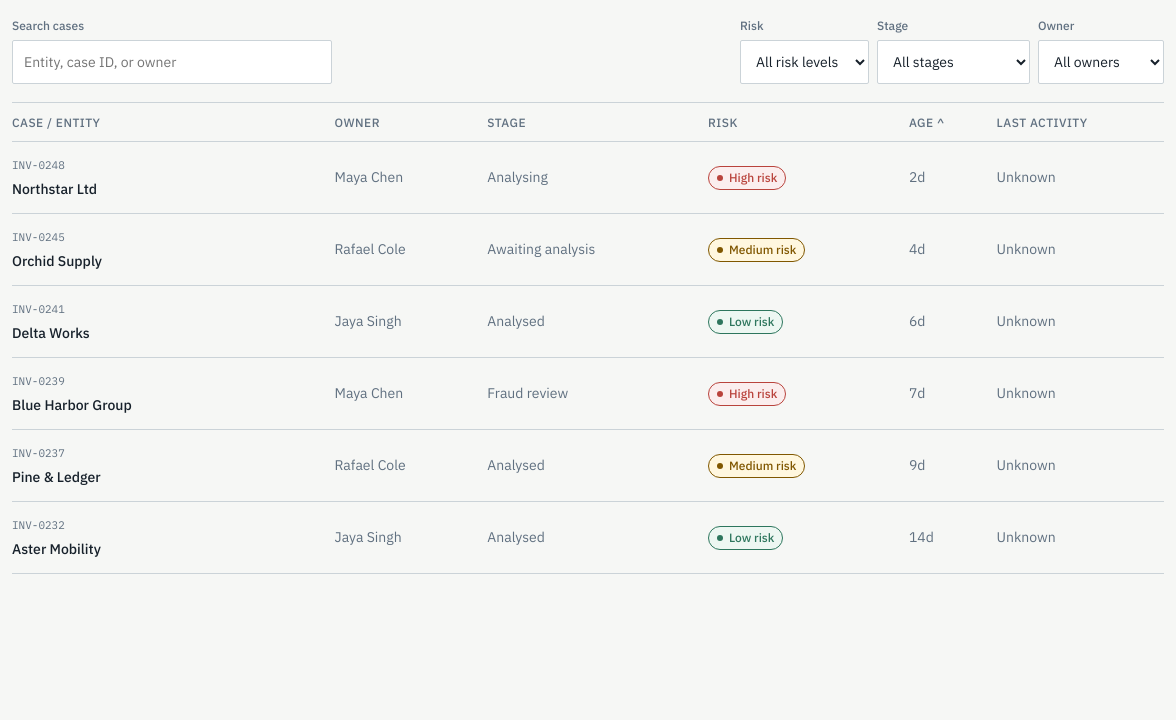
Test: CaseQueue › filters cases by risk
Select "High risk" in the dropdown labelled "Risk": {"x": 804, "y": 62} [740, 40, 869, 84]
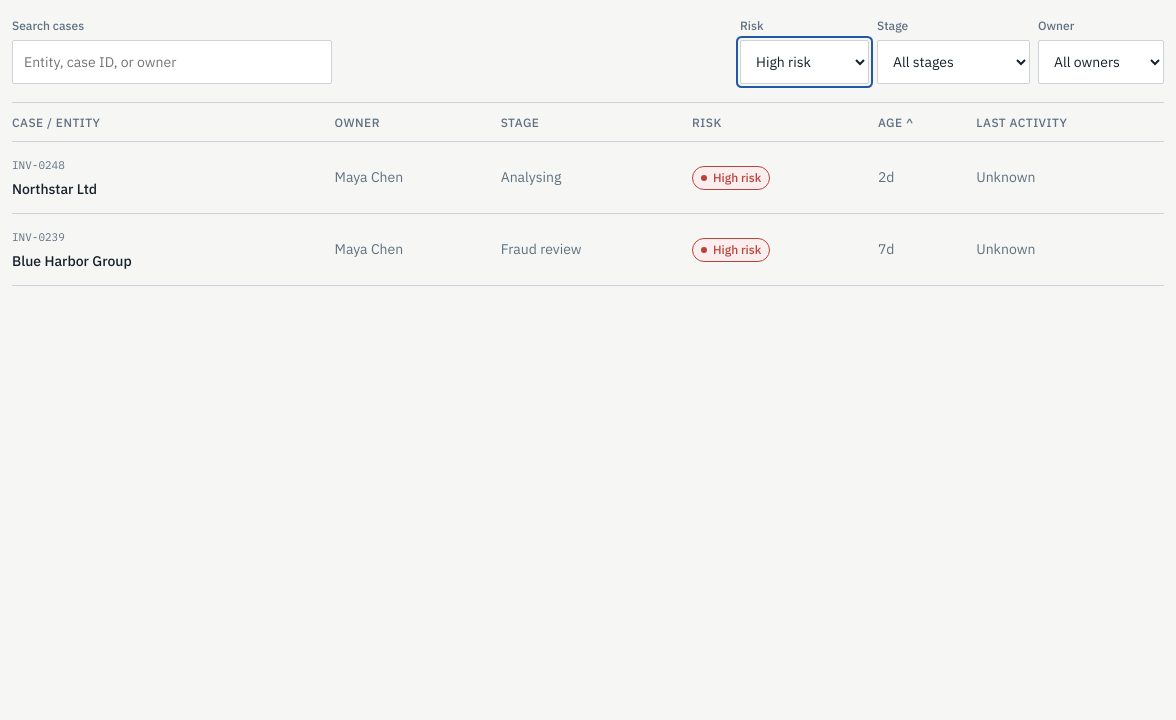
Check: the number of rows is 3, box [12, 103, 1164, 142]; [12, 142, 1164, 214]; [12, 214, 1164, 286]
